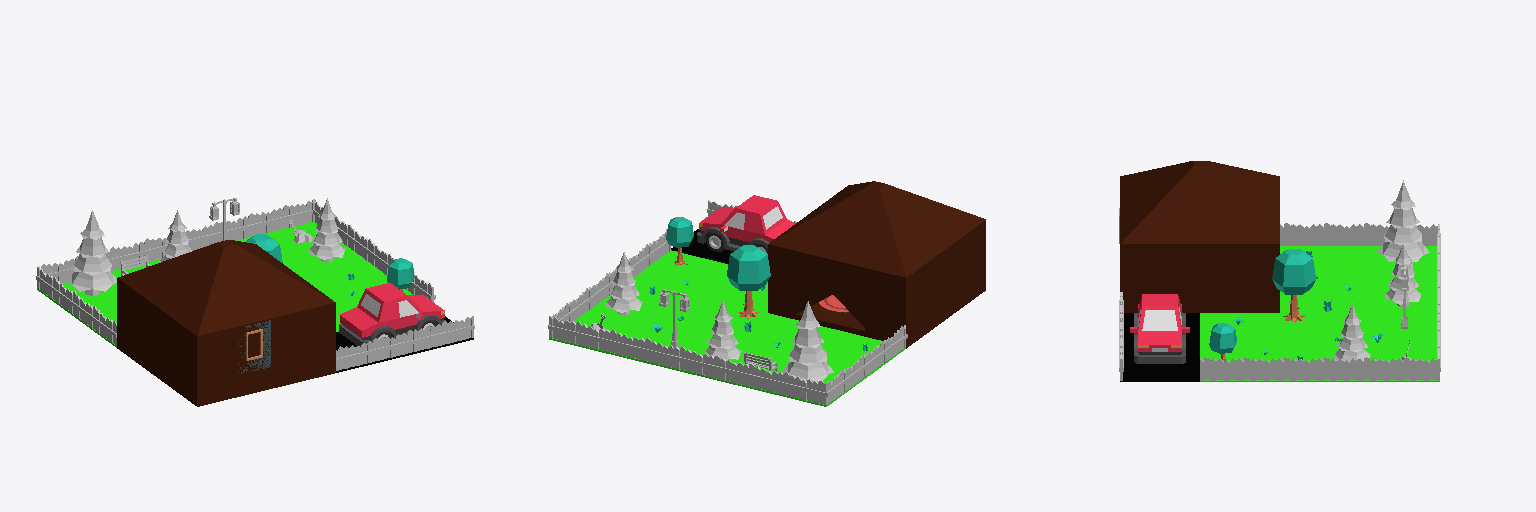
Rendered from Casa.obj.
The picture shows the model from 3 angles: view 1: azimuth 30°, elevation 25°; view 2: azimuth 150°, elevation 25°; view 3: azimuth 270°, elevation 25°; orthographic projection.
Parts seen in each view (by area): view 1: Paredes, Cube, Cesped, sedan, pine, pine.002, pine.001, fence.001, fence.002, fence.013, fence.003, fence (+5 smaller); view 2: Paredes, Cesped, Cube, sedan, pine, tree_oak, pine.002, pine.001, tree_oak.001, fence.013, fence.016, fence.015 (+6 smaller); view 3: Cesped, Cube, Paredes, sedan, pine, tree_oak, pine.002, pine.001, fence.006, fence.007, fence.008, fence.009 (+6 smaller).
Part boxes in pixels (bbox=[...]): Paredes: bbox=[117, 278, 335, 406]; Cube: bbox=[118, 240, 335, 335]; Cesped: bbox=[37, 222, 473, 372]; sedan: bbox=[339, 283, 446, 346]; pine: bbox=[66, 210, 116, 295]; pine.002: bbox=[309, 198, 345, 262]; pine.001: bbox=[160, 210, 191, 262]; fence.001: bbox=[370, 333, 405, 362]; fence.002: bbox=[405, 324, 439, 353]; fence.013: bbox=[246, 208, 281, 237]; fence.003: bbox=[440, 316, 474, 345]; fence: bbox=[336, 341, 370, 370]; Paredes: bbox=[768, 220, 985, 348]; Cesped: bbox=[549, 229, 905, 406]; Cube: bbox=[769, 181, 985, 277]; sedan: bbox=[697, 195, 795, 253]; pine: bbox=[782, 301, 833, 381]; tree_oak: bbox=[727, 245, 770, 319]; pine.002: bbox=[606, 252, 642, 315]; pine.001: bbox=[705, 301, 741, 360]; tree_oak.001: bbox=[666, 217, 693, 265]; fence.013: bbox=[583, 324, 618, 354]; fence.016: bbox=[687, 350, 722, 379]; fence.015: bbox=[653, 341, 687, 370]; Cesped: bbox=[1120, 246, 1439, 381]; Cube: bbox=[1120, 161, 1279, 243]; Paredes: bbox=[1120, 244, 1279, 312]; sedan: bbox=[1130, 294, 1189, 363]; pine: bbox=[1377, 180, 1429, 261]; tree_oak: bbox=[1272, 249, 1315, 323]; pine.002: bbox=[1334, 303, 1370, 361]; pine.001: bbox=[1385, 243, 1421, 306]; fence.006: bbox=[1200, 357, 1239, 380]; fence.007: bbox=[1240, 357, 1279, 380]; fence.008: bbox=[1280, 357, 1319, 380]; fence.009: bbox=[1320, 357, 1359, 380].
Bounding box in the file's own units: 16.12 × 6.48 × 16.14.